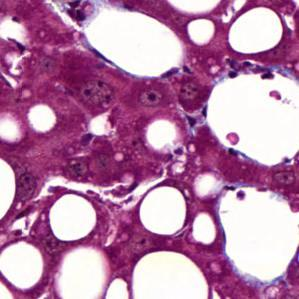steatosis: (229, 7, 285, 56), (45, 195, 99, 242), (140, 188, 190, 233)
